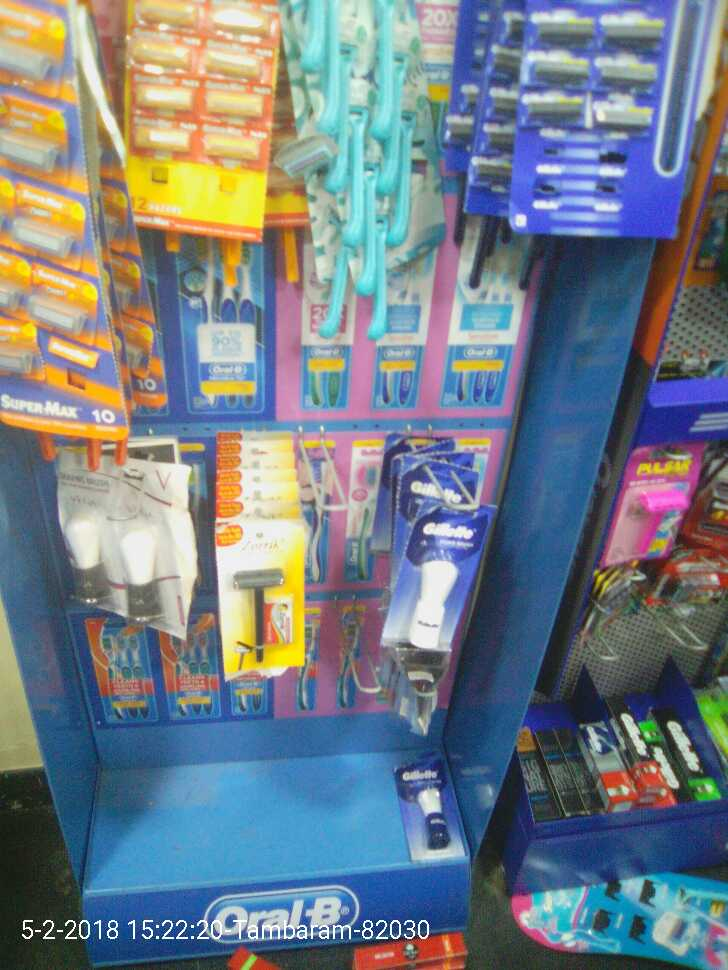gillette: (382, 465, 482, 664), (571, 708, 715, 814), (402, 762, 463, 864)
